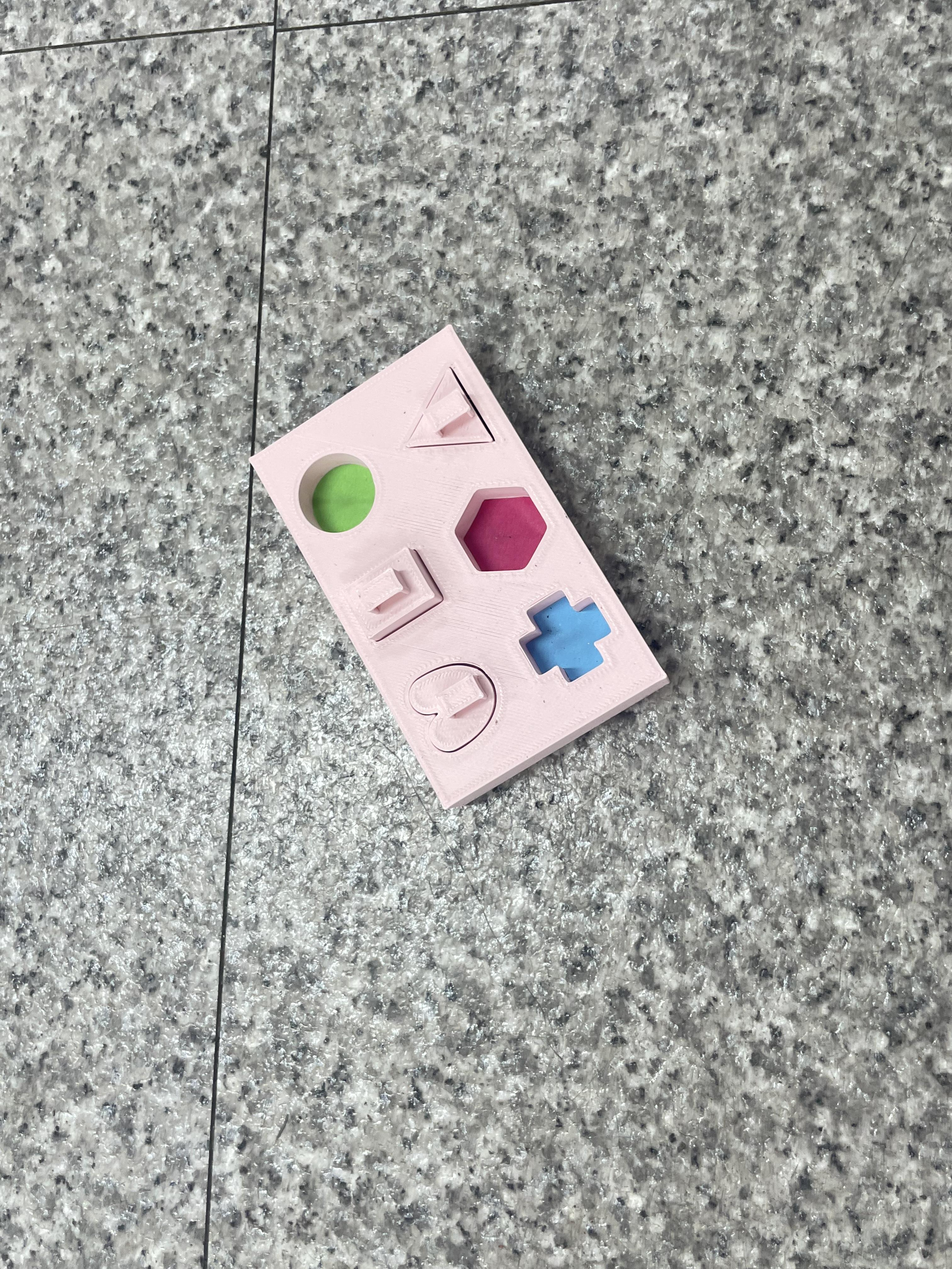unsolved: (249, 309, 697, 825)
